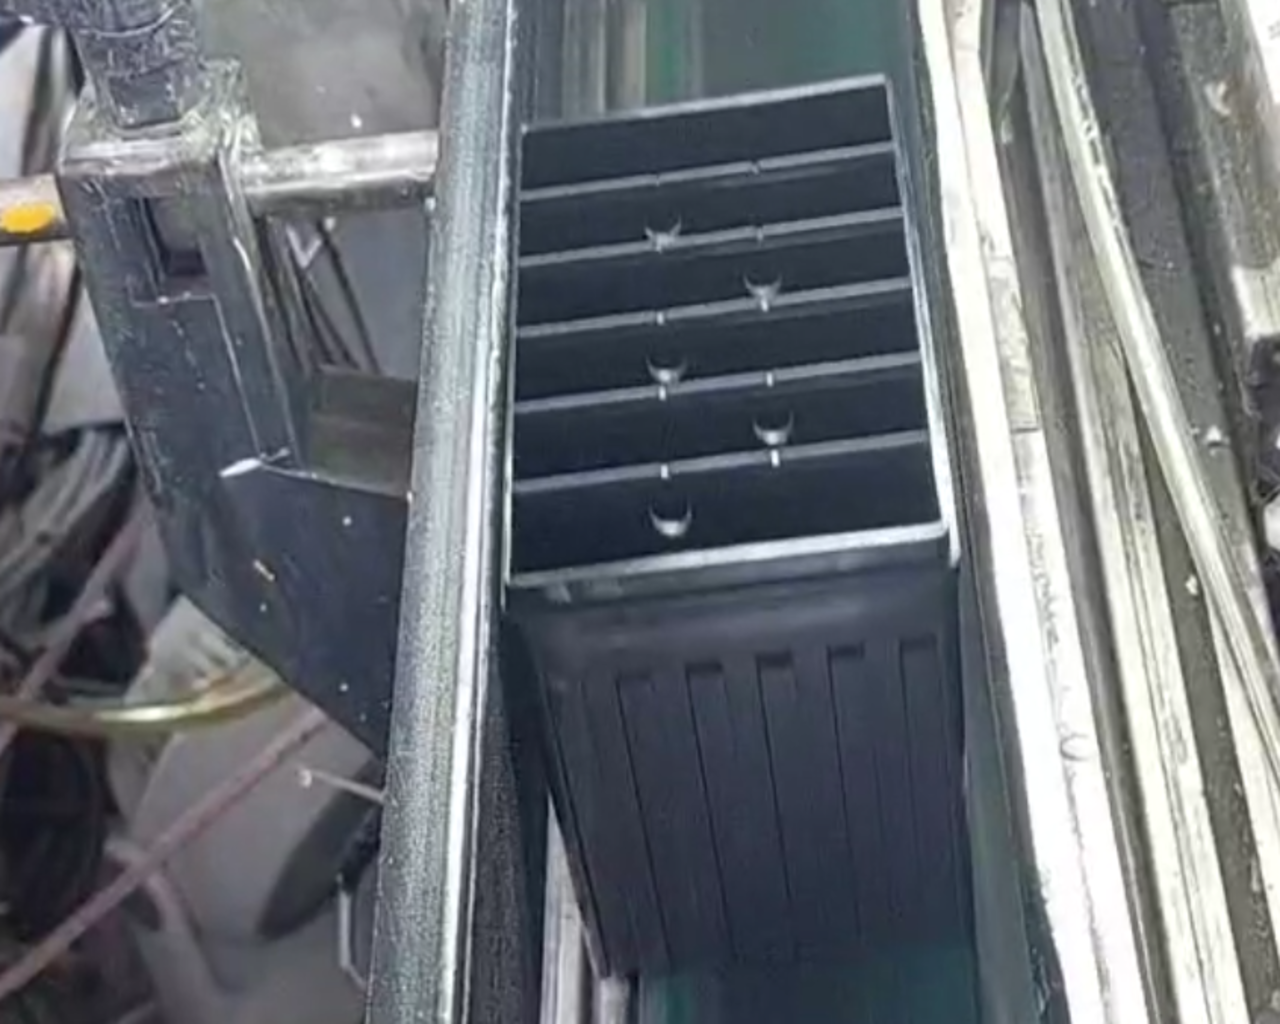box: (485, 61, 978, 635)
round: (637, 483, 706, 545), (732, 247, 795, 307), (738, 391, 802, 448), (635, 332, 696, 386), (630, 197, 693, 245)
